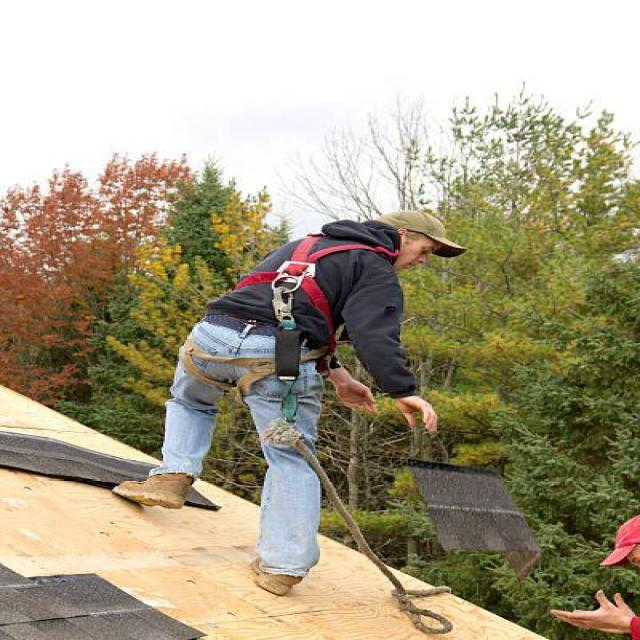belt: (174, 232, 374, 400)
